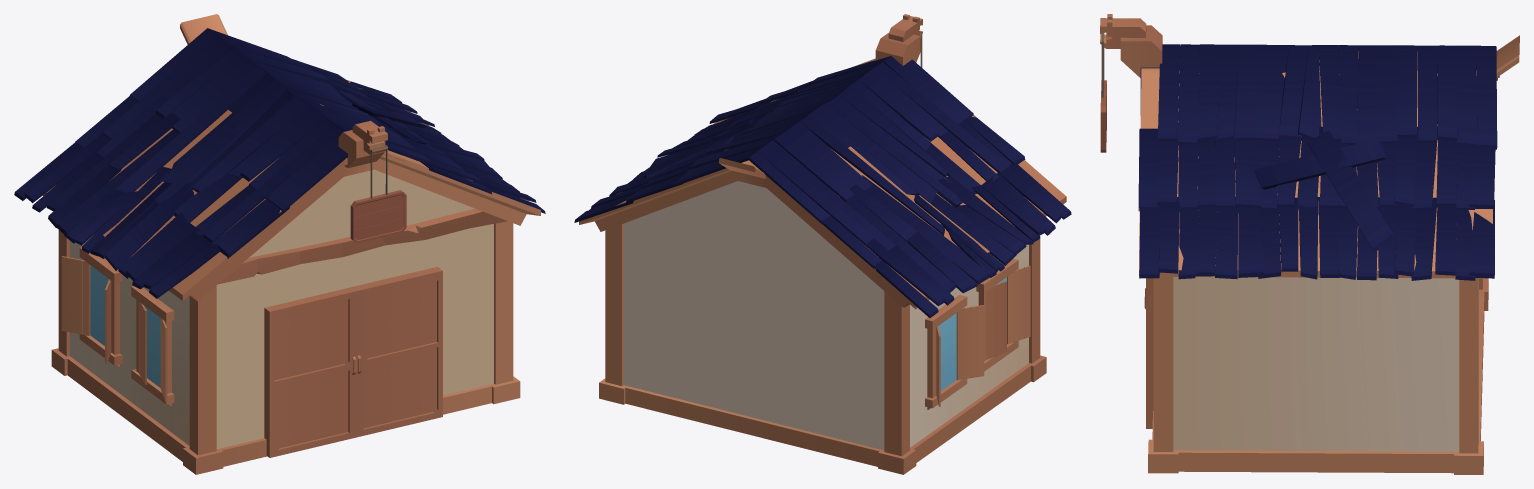
The model's file is Armazem de materiais refinados.fbx.
The picture shows the model from 3 angles, left to right: view 1: azimuth 30°, elevation 25°; view 2: azimuth 150°, elevation 25°; view 3: azimuth 270°, elevation 25°; orthographic projection. The views are drawn at different scales.
Parts seen in each view (by area): view 1: Armazem de materiais refinados.001; view 2: Armazem de materiais refinados.001; view 3: Armazem de materiais refinados.001.
Part boxes in pixels (<box>): Armazem de materiais refinados.001: <box>14,14,545,474</box>; Armazem de materiais refinados.001: <box>574,14,1071,474</box>; Armazem de materiais refinados.001: <box>1100,14,1519,474</box>.
Size of the model in its own units: 720 by 576 by 599.
